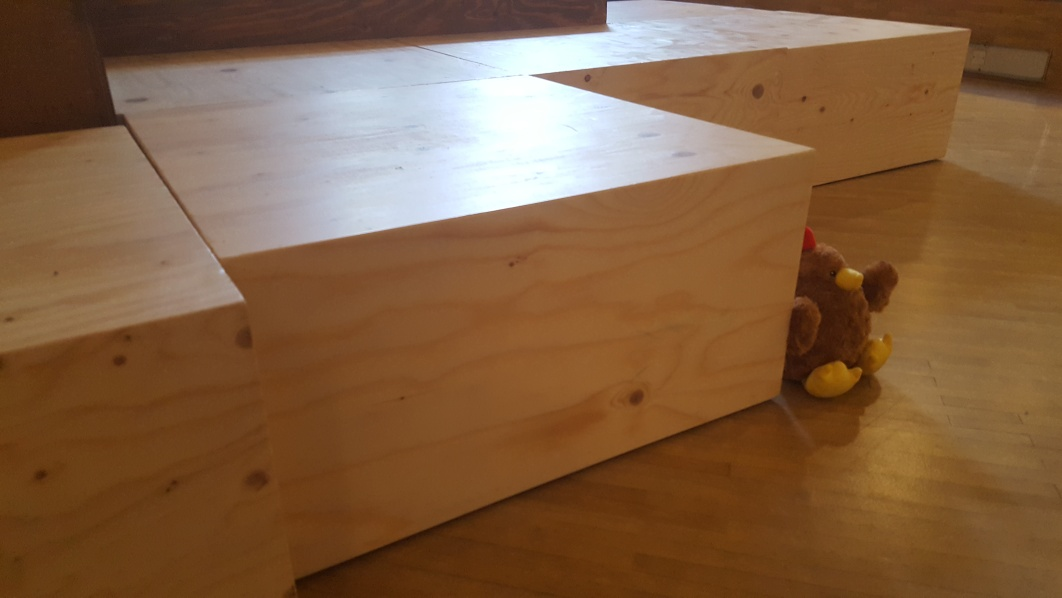chicken: (788, 225, 900, 399)
